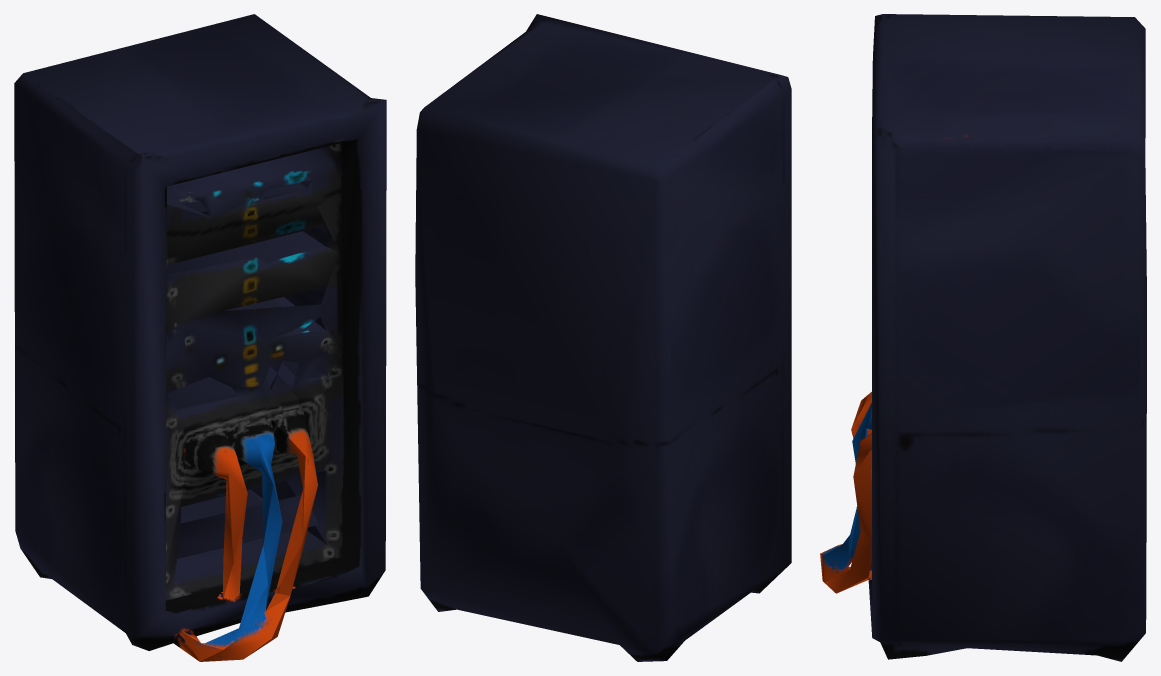
File: server-rack.glb
3 views of the same model, side by side, from view 1: azimuth 30°, elevation 25°; view 2: azimuth 150°, elevation 25°; view 3: azimuth 270°, elevation 25° (orthographic). The views are drawn at different scales.
Visible parts, largest first — view 1: geometry_0.001; view 2: geometry_0.001; view 3: geometry_0.001.
Boxes of the visible parts, bbox=[...] form: geometry_0.001: bbox=[14, 14, 386, 661]; geometry_0.001: bbox=[415, 14, 791, 661]; geometry_0.001: bbox=[820, 14, 1146, 661].
Size of the model in its own units: 0.525 by 0.9996 by 0.5544.
Materials: 1 (1 with a texture image).
